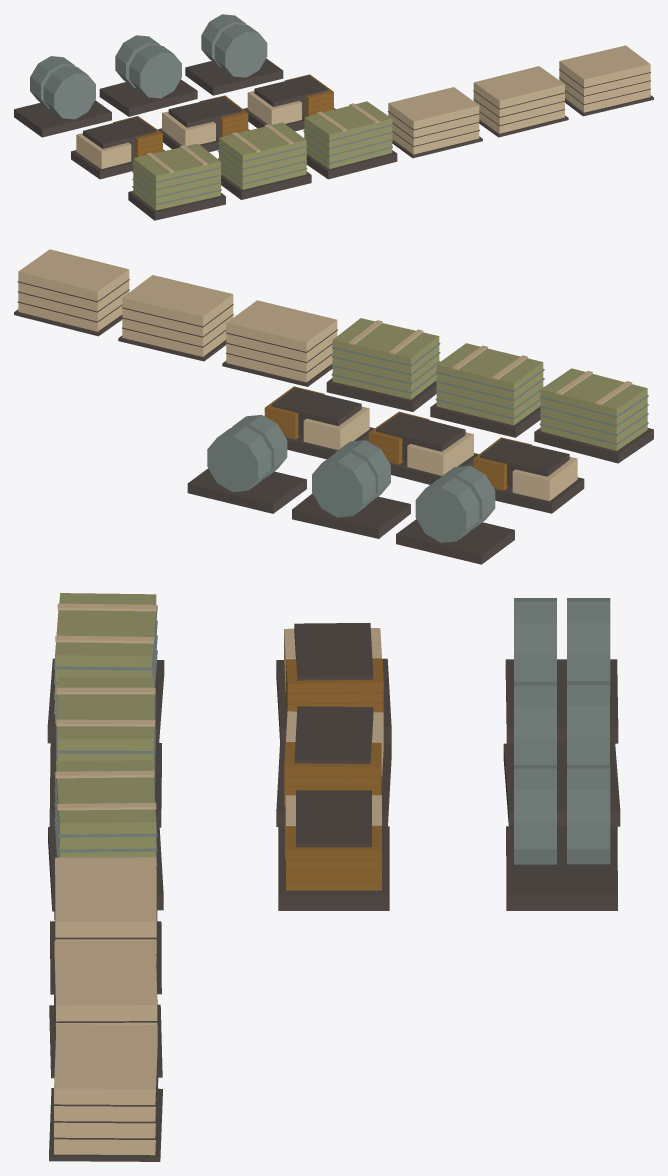
The model's file is SM_AcopioMateriales_v1_Mitad_LOD0.fbx.
The picture shows the model from 3 angles, top to bottom: view 1: azimuth 30°, elevation 25°; view 2: azimuth 150°, elevation 25°; view 3: azimuth 270°, elevation 25°; orthographic projection. The views are drawn at different scales.
Parts seen in each view (by area): view 1: SM_acopio_carga_v11_LOD0; view 2: SM_acopio_carga_v11_LOD0; view 3: SM_acopio_carga_v11_LOD0.
Part boxes in pixels (x1,y1,x2,y2): SM_acopio_carga_v11_LOD0: (14,14,653,220); SM_acopio_carga_v11_LOD0: (14,249,653,564); SM_acopio_carga_v11_LOD0: (47,593,620,1161).
Size of the model in its own units: 9.1 by 0.94 by 4.52.
